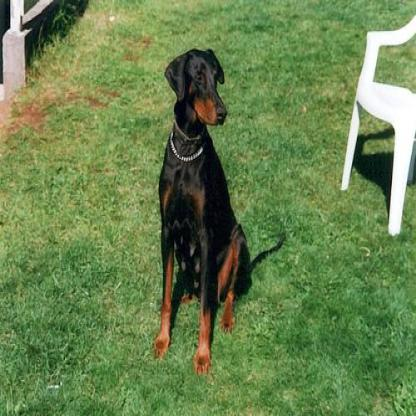Doberman: (152, 47, 286, 373)
